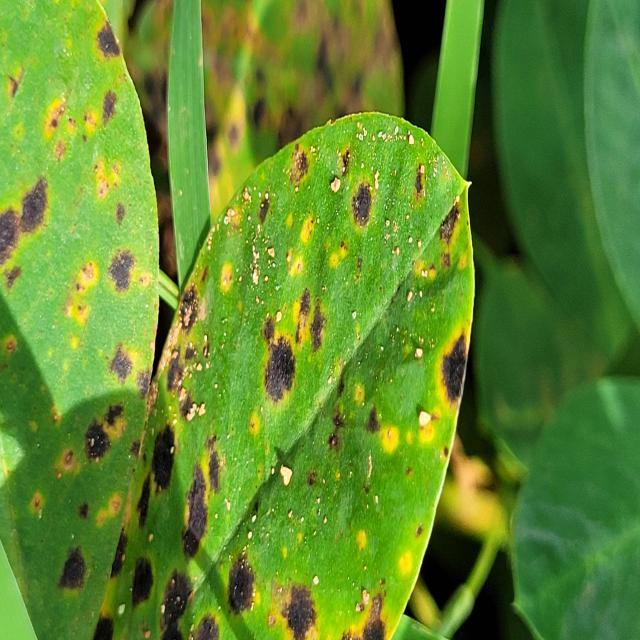Ground nut_tikka leaf spot: (112, 111, 472, 640), (0, 0, 159, 640)
